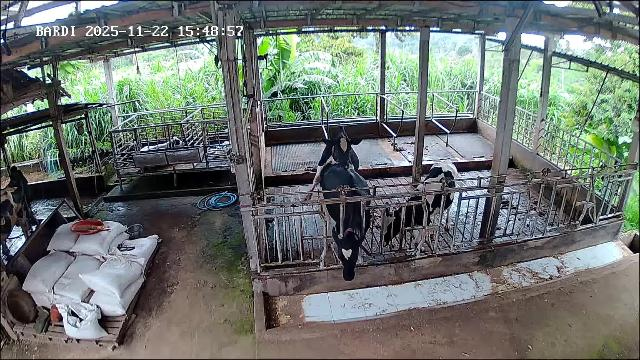mounting: (304, 125, 363, 202)
